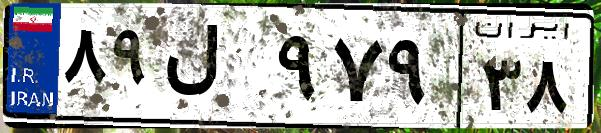3: (475, 38, 525, 113)
7: (330, 28, 385, 110)
8: (57, 26, 110, 100), (525, 38, 570, 115)
9: (270, 28, 330, 110), (385, 28, 445, 110), (110, 28, 158, 98)
ل: (158, 20, 270, 120)
